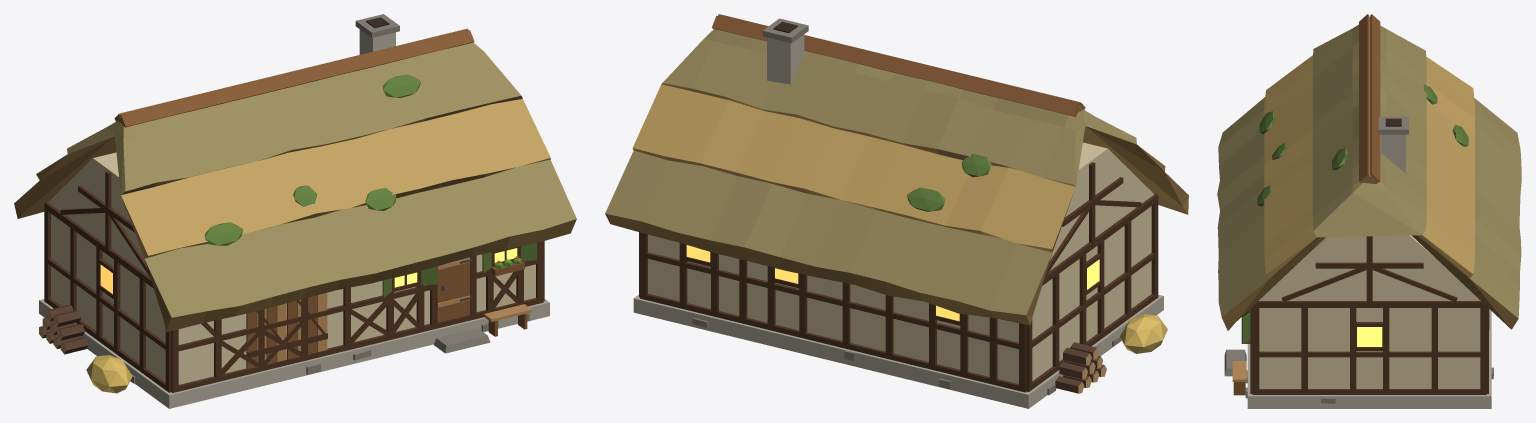
File: Dorf_Wohnstallhaus.fbx
The picture shows the model from 3 angles, left to right: view 1: azimuth 30°, elevation 25°; view 2: azimuth 150°, elevation 25°; view 3: azimuth 270°, elevation 25°; orthographic projection. The views are drawn at different scales.
Visible parts, largest first — view 1: Dorf_Wohnstallhaus; view 2: Dorf_Wohnstallhaus; view 3: Dorf_Wohnstallhaus.
Part boxes in pixels (x1,y1,x2,y2): Dorf_Wohnstallhaus: [14, 14, 576, 408]; Dorf_Wohnstallhaus: [605, 14, 1188, 408]; Dorf_Wohnstallhaus: [1217, 14, 1521, 408].
Size of the model in its own units: 11.71 by 6.73 by 7.61.
